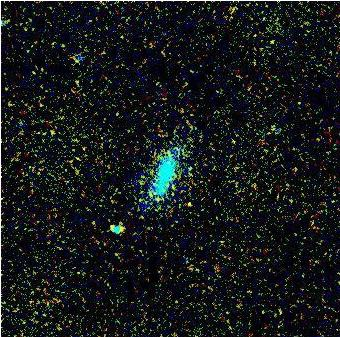star: (71, 130, 101, 160)
